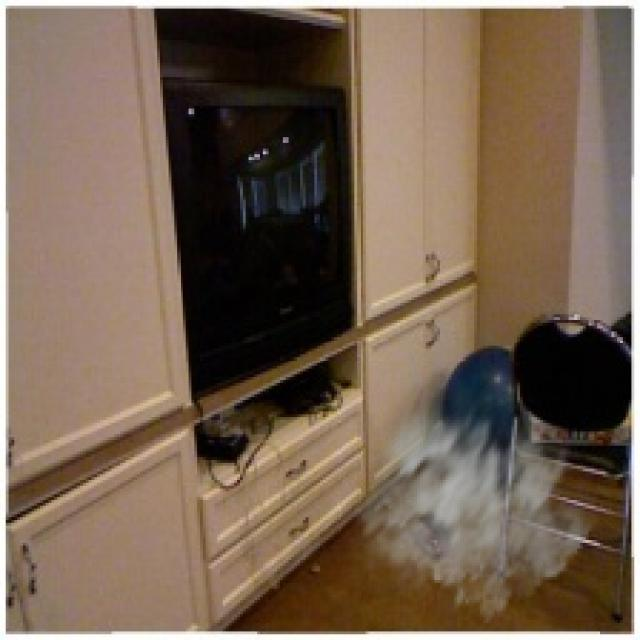smoke: (343, 366, 606, 626)
